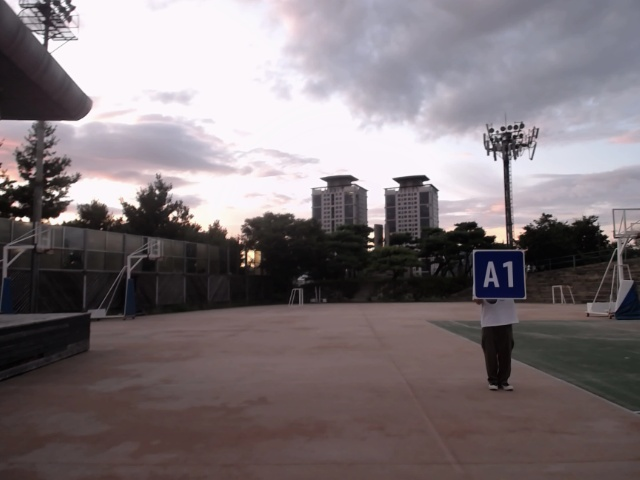delivery_a1: (474, 251, 526, 299)
